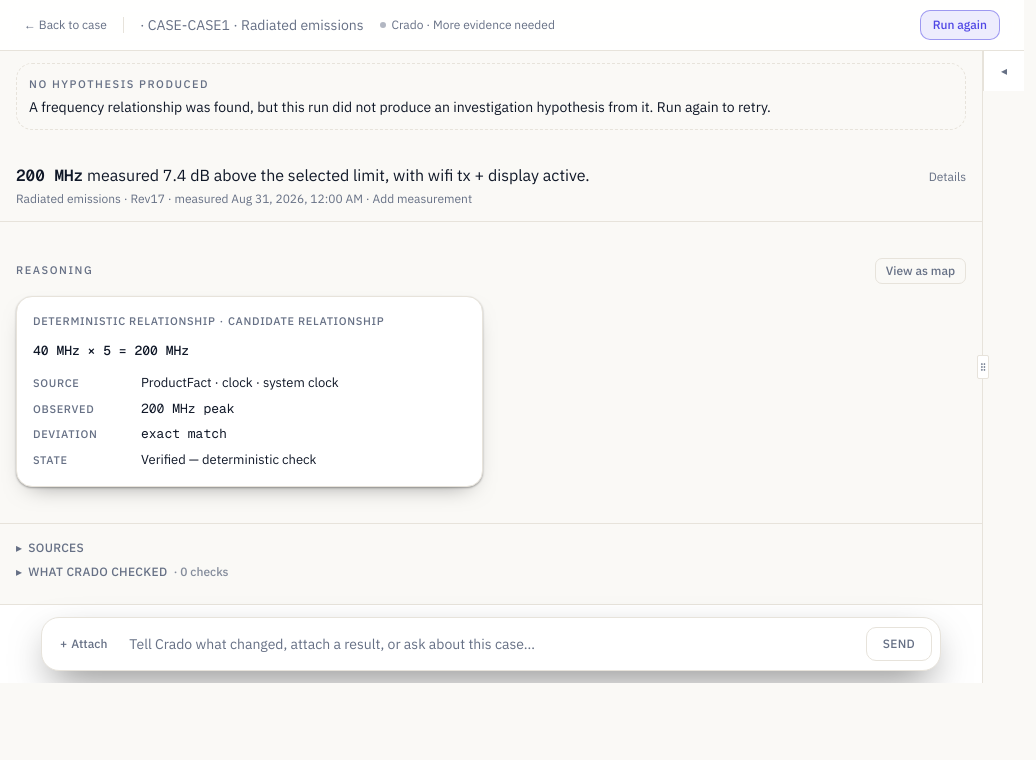
Test: InvestigationWorkspace — Investigation Agent (MVP-10C) › shows the honest 'no passages used as evidence' state when the agent searched but found nothing usable
Click the heading "▸ Sources" at x=50, y=548, box [16,540,84,556]
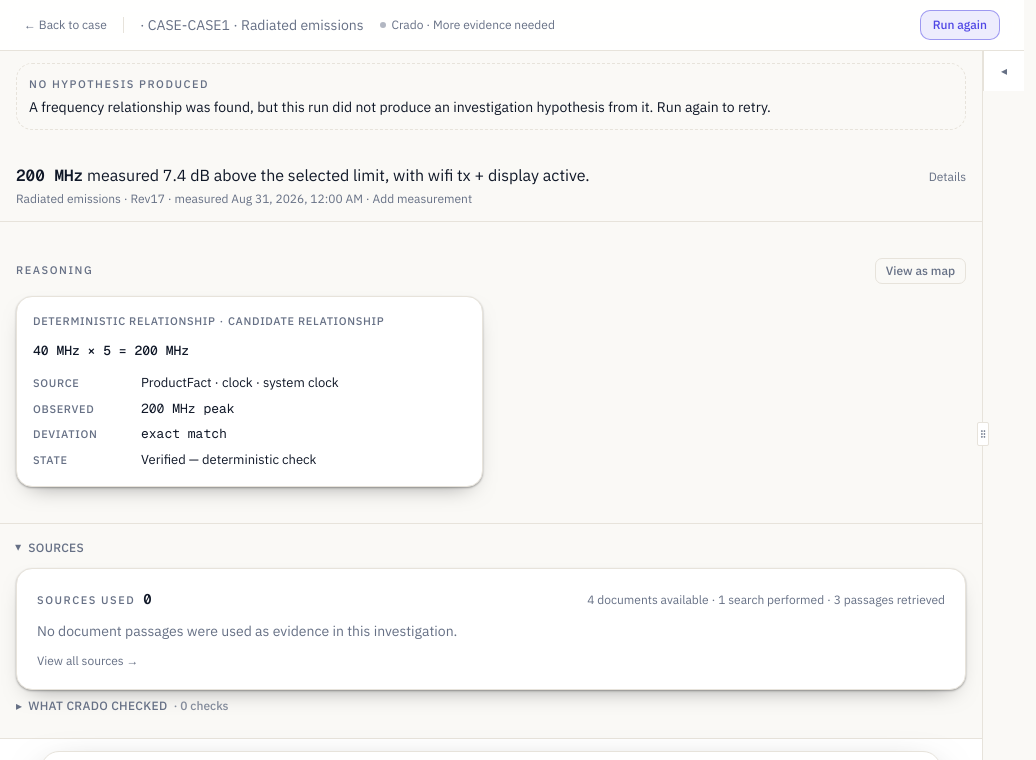
Result: the text "No document passages were used as evidence in this investigation." is shown at [37,622,457,640]
